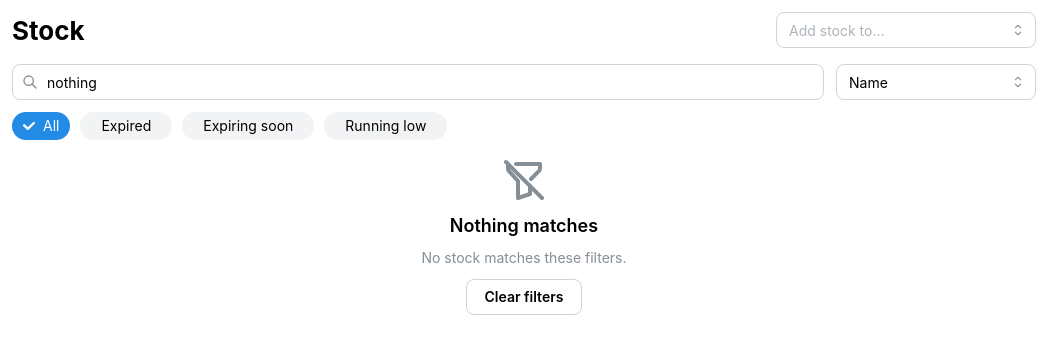
it: StockPage filters › offers to clear the filters when nothing matches
This screenshot has width=1048, height=358.
Click the button "Clear filters" at [524, 297], box top-left (466, 279), bottom-right (582, 315)
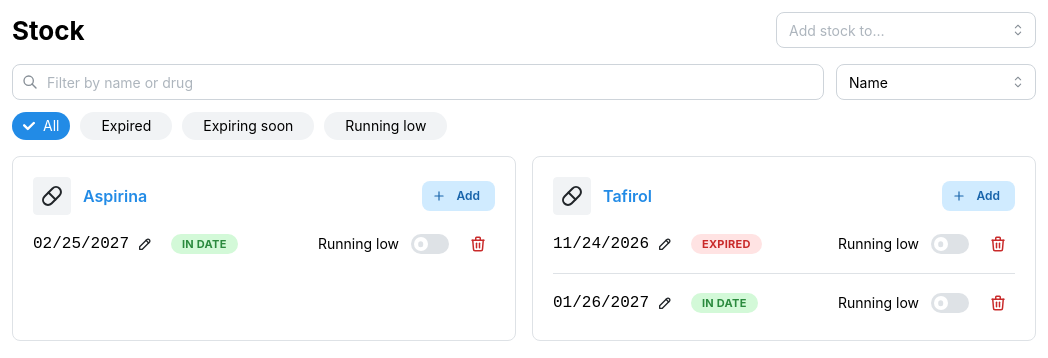
Check: the link "Tafirol" is shown, box top-left (603, 184), bottom-right (652, 208)
